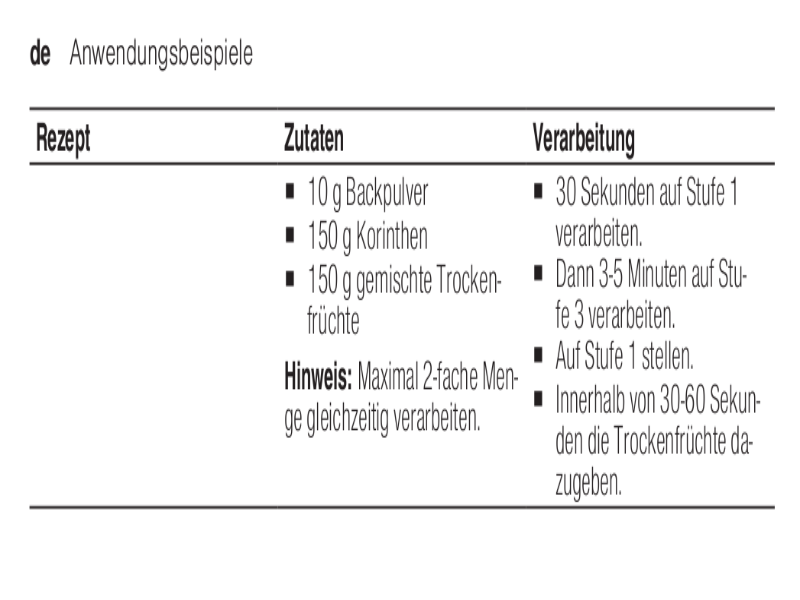borderless: (12, 88, 790, 524)
cell: (530, 168, 777, 502), (275, 171, 525, 459), (526, 115, 646, 159), (28, 117, 110, 160), (275, 115, 357, 156)
